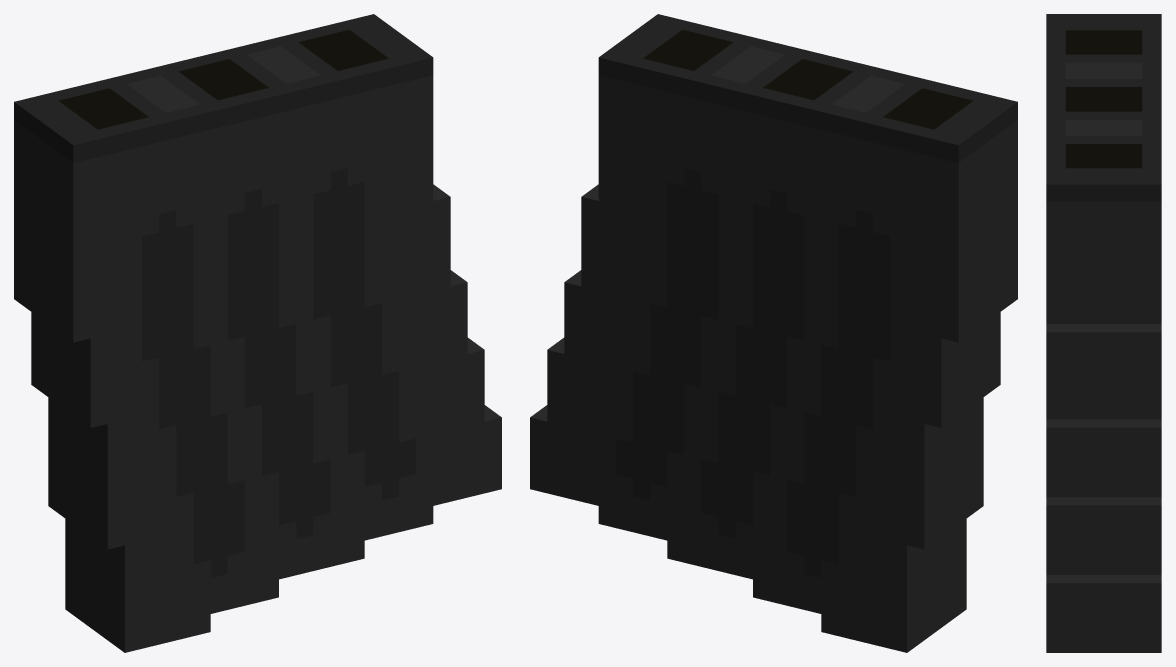
File: BlasterNoArmo.fbx
3 views of the same model, side by side, from view 1: azimuth 30°, elevation 25°; view 2: azimuth 150°, elevation 25°; view 3: azimuth 270°, elevation 25° (orthographic). The views are drawn at different scales.
Visible parts, largest first — view 1: NoArmo; view 2: NoArmo; view 3: NoArmo.
Part boxes in pixels (x1=…): NoArmo: x1=14, y1=14, x2=501, y2=652; NoArmo: x1=530, y1=14, x2=1017, y2=652; NoArmo: x1=1046, y1=14, x2=1161, y2=652.
Bounding box in the file's own units: 250 × 290 × 60.
